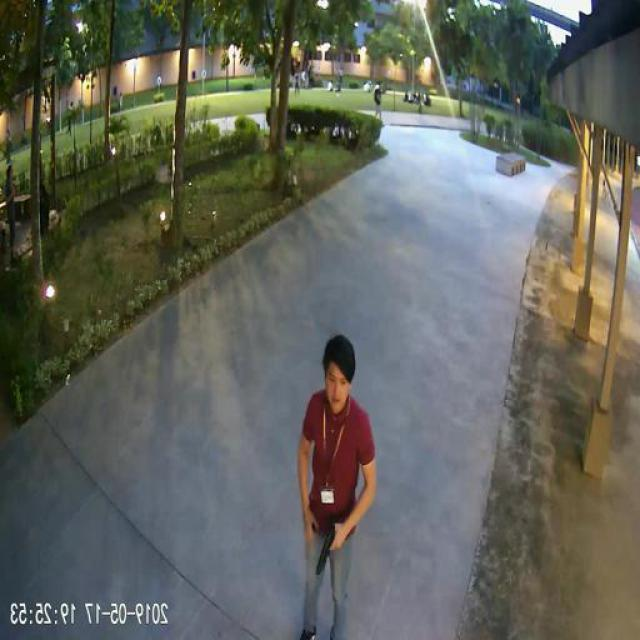Gun: (318, 521, 342, 570)
